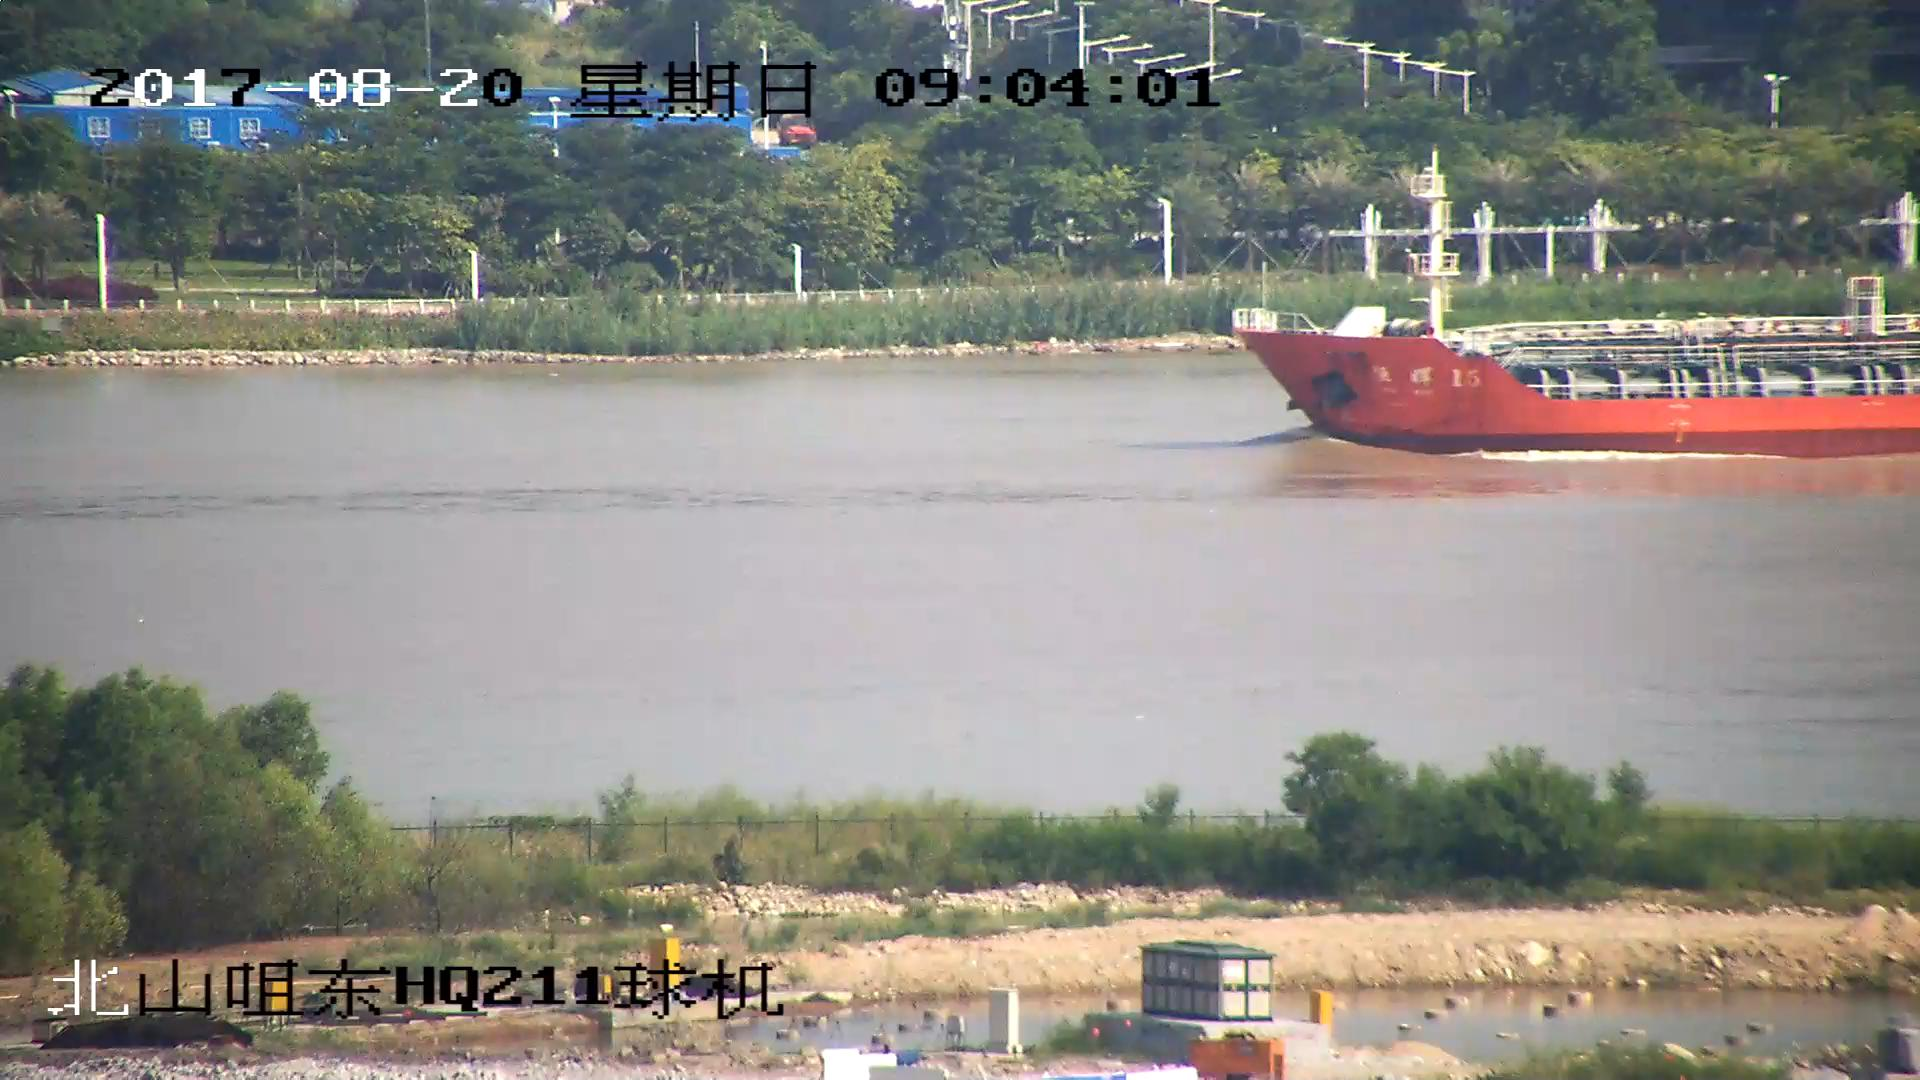general cargo ship: (1245, 170, 1920, 460)
